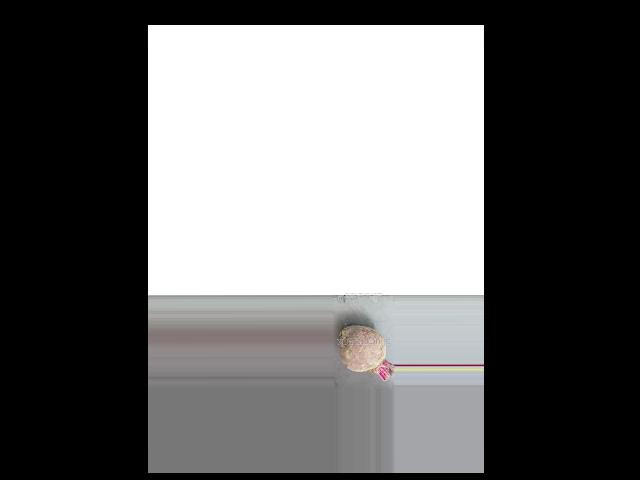beet: (338, 325, 394, 380)
